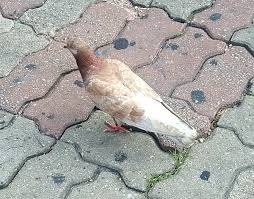pigeon: (58, 35, 200, 147)
